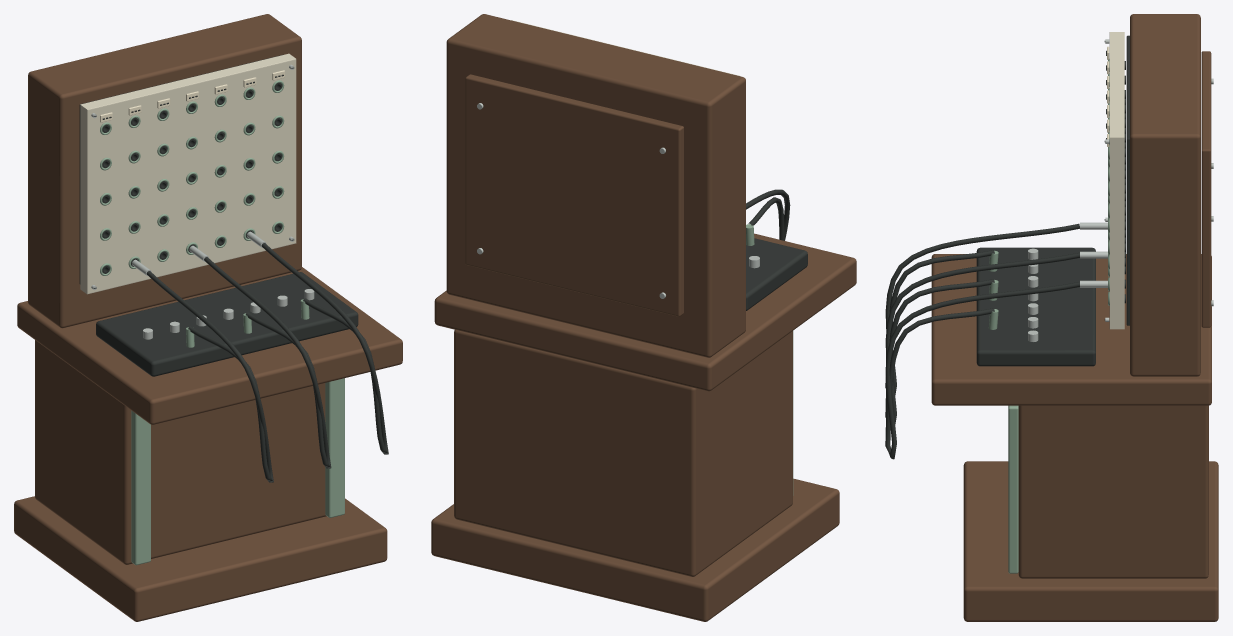
File: abandoned-telephone-exchange-manual-switchboard-bay-4f0824cc__31975.glb
3 renders of one model, left to right at view 1: azimuth 30°, elevation 25°; view 2: azimuth 150°, elevation 25°; view 3: azimuth 270°, elevation 25°, orthographic. The views are drawn at different scales.
Visible parts, largest first — view 1: manual-switchboard-bay; view 2: manual-switchboard-bay; view 3: manual-switchboard-bay.
Boxes of the visible parts, x1,y1,x2,y2 form: manual-switchboard-bay: [14, 14, 402, 621]; manual-switchboard-bay: [431, 14, 856, 621]; manual-switchboard-bay: [885, 14, 1218, 621].
Bounding box in the file's own units: 0.94 × 1.66 × 1.03.
